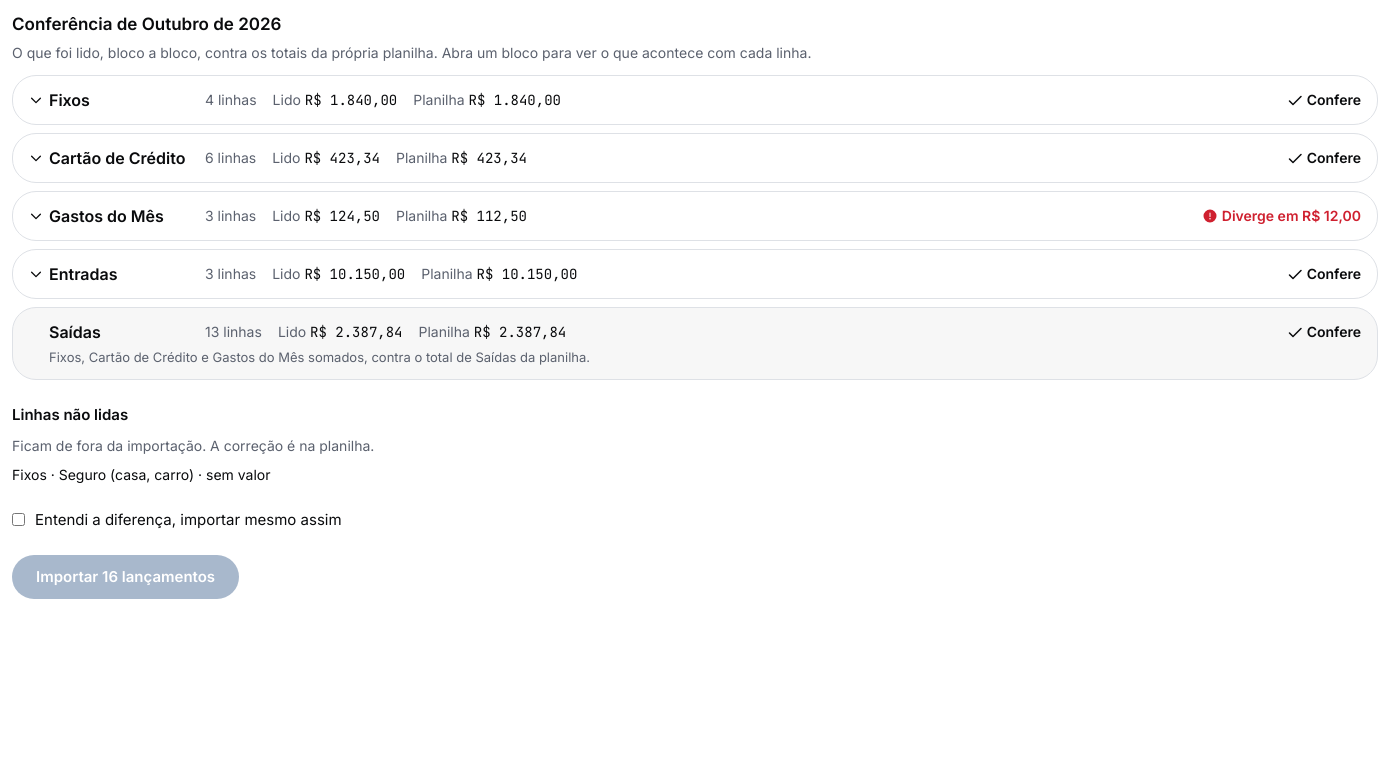
Scenario: PassoConferencia — o destino de cada linha (IMP-05, AC 5) › outubro: as linhas de Fixos são novas e as do Cartão, compras novas
Click the heading "Fixos 4 linhas Lido R$ 1.840,00 Planilha R$ 1.840,00 Confere".
click(69, 100)  # box 29,90 -> 1361,110
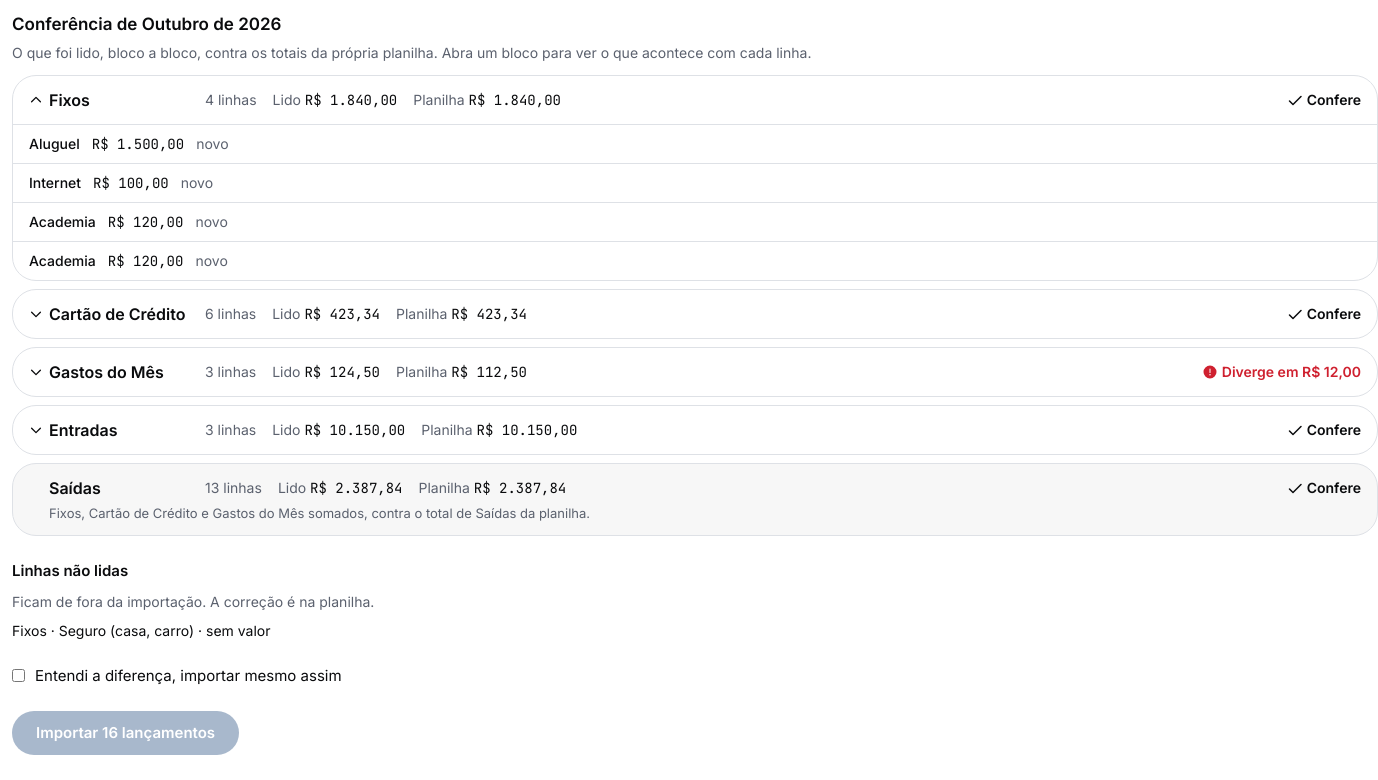
Now the text "novo" is shown 4 times, box 196,132 -> 228,154; 181,172 -> 213,192; 195,210 -> 228,232; 195,250 -> 228,270
Click the heading that starts with "Cartão de Crédito".
click(117, 314)  # box 29,304 -> 1361,324
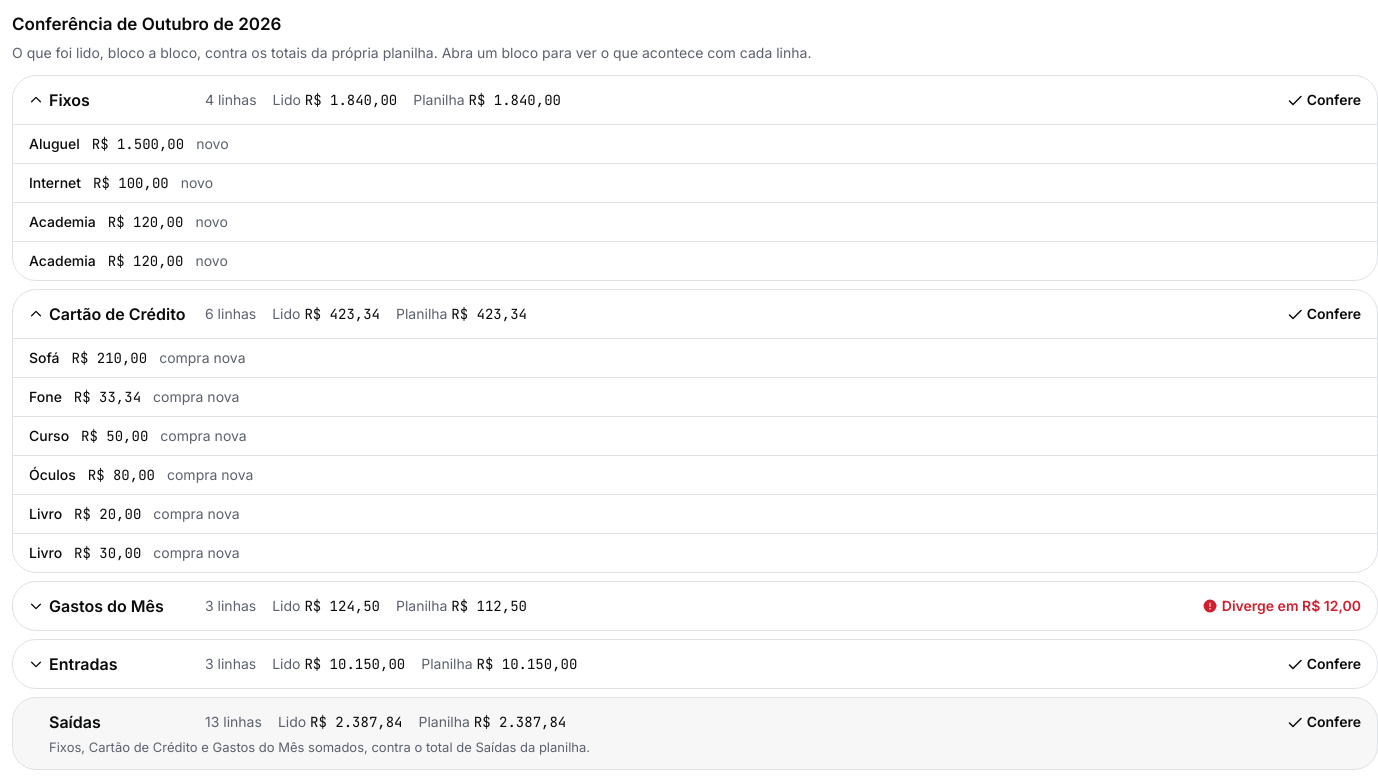
Now the text "compra nova" is shown 6 times, box 159,346 -> 246,368; 153,386 -> 240,406; 160,424 -> 247,446; 167,464 -> 253,484; 153,502 -> 240,524; 153,542 -> 240,562
